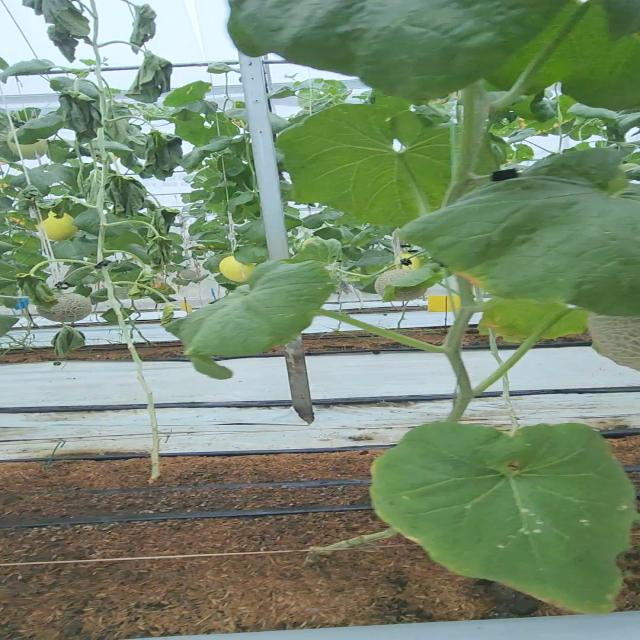Rear-melon: (36, 210, 79, 238), (51, 292, 87, 324)
